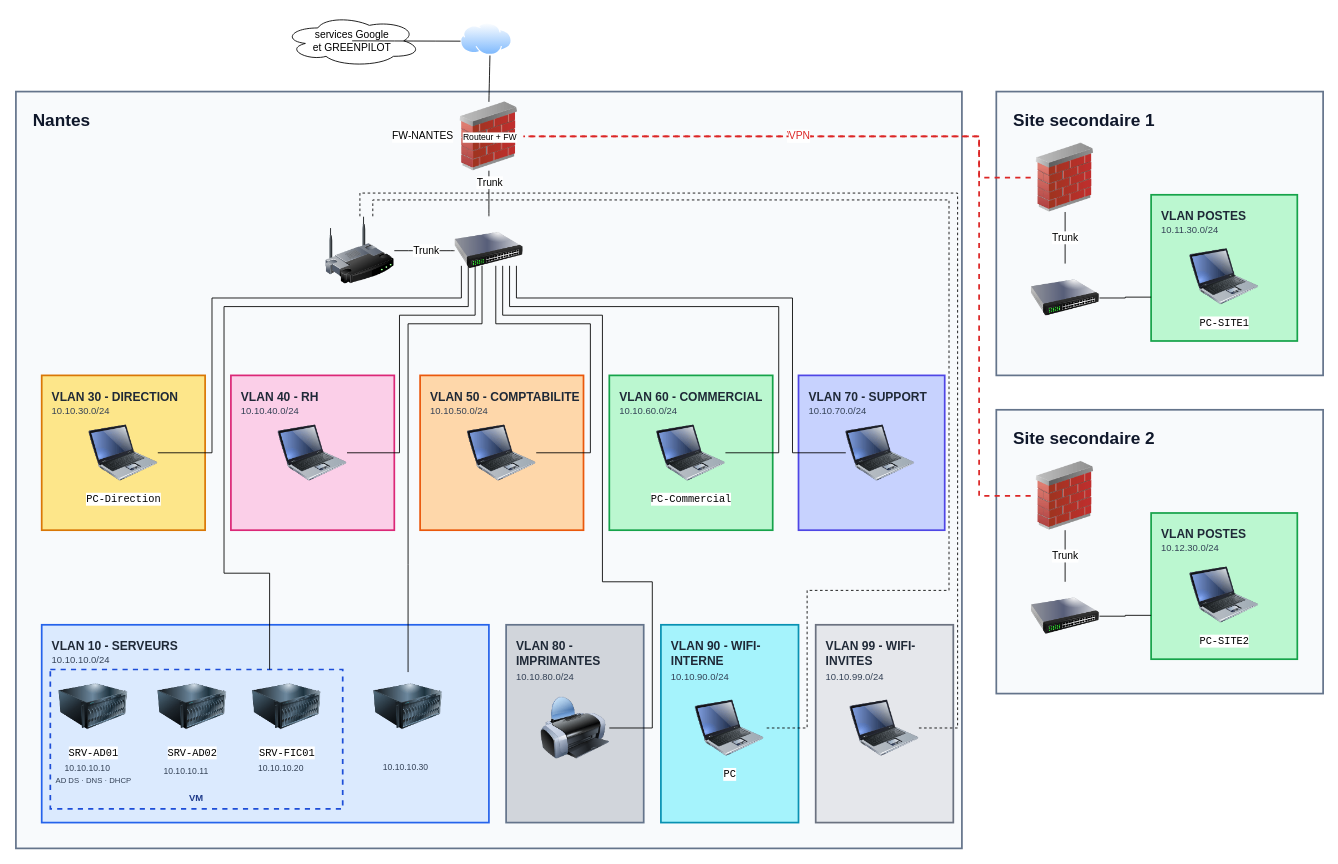
Image size: 1338x864. Some labels were removed from this diagram. Each missing label, with the centre of its shape:
AP-NANTES: (x=359, y=250)
FW-SITE1: (x=1064, y=177)
FW-SITE2: (x=1064, y=495)
IMP-NANTES-01: (x=574, y=727)
INTERNET: (x=486, y=38)
Invité: (x=884, y=727)
NAS: (x=407, y=706)
PC- Compta: (x=501, y=452)
PC- Support: (x=879, y=452)
PC-RH: (x=312, y=452)
SW-CORE-NANTES: (x=488, y=250)
SW-SITE1: (x=1064, y=297)
SW-SITE2: (x=1064, y=615)
